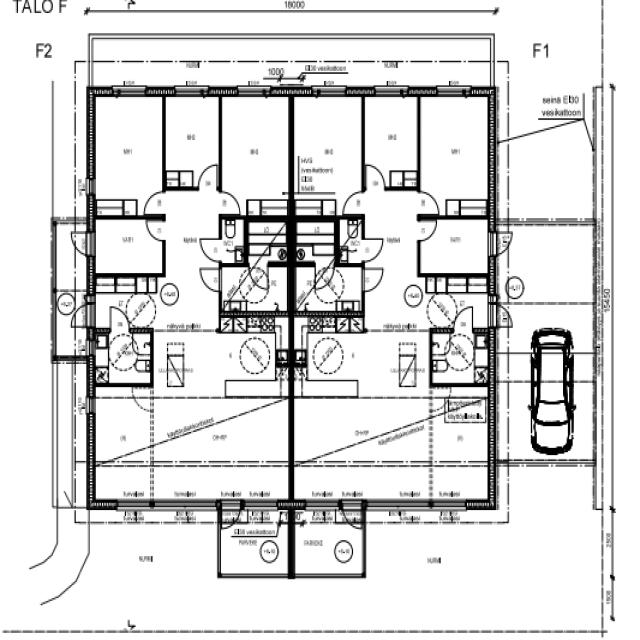door: (428, 388, 452, 421), (360, 265, 386, 294), (197, 235, 222, 264), (359, 236, 385, 263), (198, 266, 223, 294), (363, 162, 387, 191), (219, 500, 242, 530), (71, 230, 95, 258), (341, 500, 364, 529), (217, 189, 241, 216), (197, 163, 220, 191), (142, 190, 167, 215), (416, 190, 440, 216), (416, 216, 440, 242), (343, 189, 365, 215), (454, 306, 476, 332), (490, 230, 512, 256), (132, 387, 153, 414), (144, 217, 166, 242), (108, 305, 129, 331), (494, 302, 514, 328), (72, 304, 93, 328)
window: (513, 215, 592, 231), (112, 497, 154, 512), (431, 497, 468, 513), (396, 498, 431, 514), (433, 85, 468, 100), (243, 498, 280, 511), (372, 85, 406, 99), (172, 85, 206, 99), (304, 498, 342, 510), (235, 86, 267, 100), (316, 86, 348, 100), (117, 85, 148, 99), (486, 228, 500, 258), (83, 394, 97, 418), (85, 175, 97, 198), (86, 335, 96, 357)
zone: (418, 94, 492, 216), (92, 94, 164, 218), (292, 95, 363, 216), (220, 95, 291, 215), (500, 224, 596, 306), (363, 94, 420, 189), (164, 95, 221, 189), (290, 510, 365, 578), (219, 506, 286, 576), (91, 218, 166, 276), (418, 218, 492, 276), (422, 276, 490, 328), (92, 328, 154, 385), (294, 264, 364, 311), (429, 328, 486, 384), (220, 264, 289, 309), (98, 284, 160, 329), (308, 319, 346, 378), (247, 220, 289, 262), (294, 220, 337, 260), (338, 216, 365, 265), (220, 215, 246, 265)
